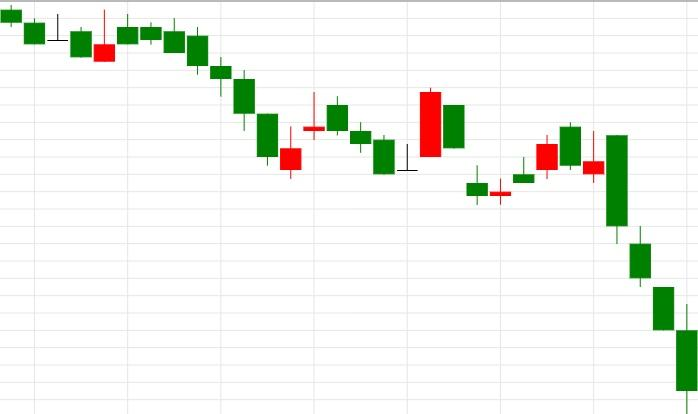inverse_hammer_rise: (0, 5, 116, 63)
